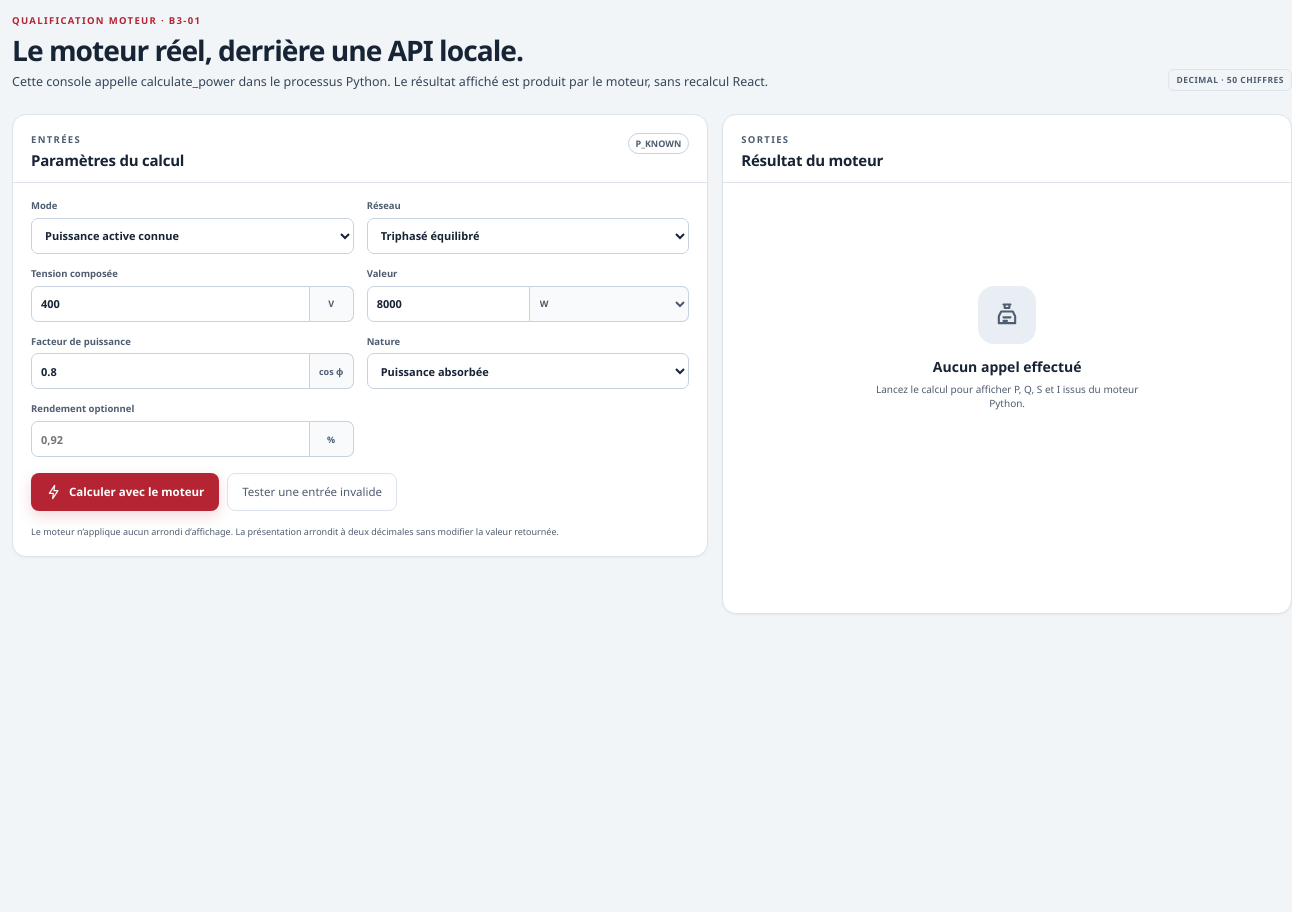
Scenario: EngineScreen › affiche une erreur locale sans fuite technique
The image size is (1292, 912).
Click the button with test id "engine-run": (125, 492) 31,473 -> 219,511
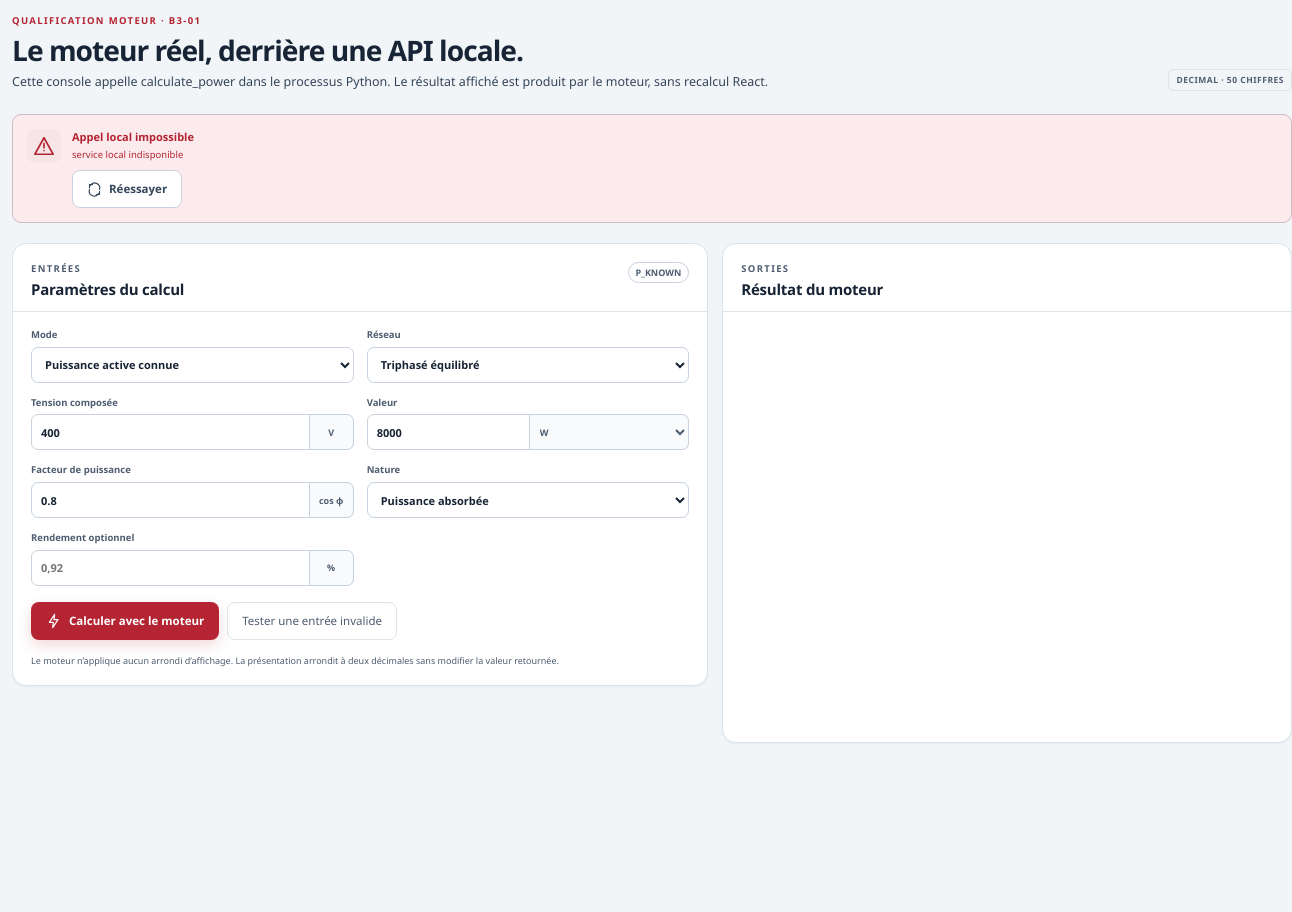
Expected: the text "Appel local impossible" is shown, 72,129 -> 194,145
Expected: the text "service local indisponible" is shown, 72,148 -> 194,162
